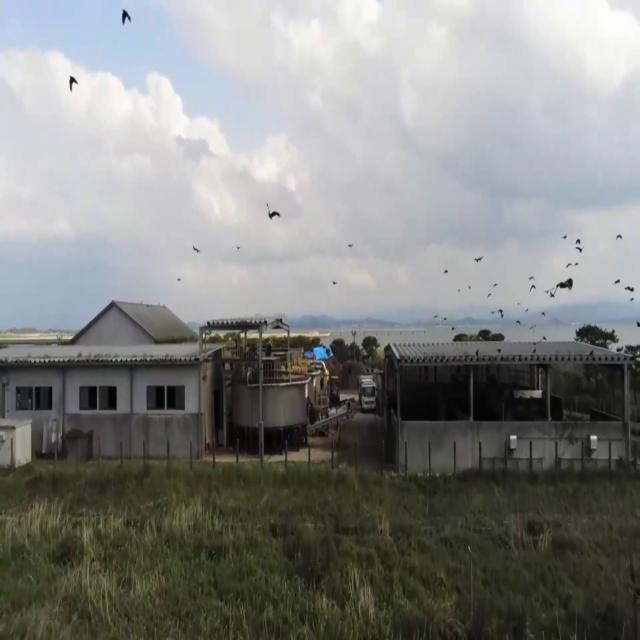bird: (550, 270, 574, 306), (265, 195, 281, 235), (68, 66, 79, 102), (121, 1, 131, 35), (624, 278, 635, 306), (574, 233, 582, 259), (192, 237, 200, 261)
